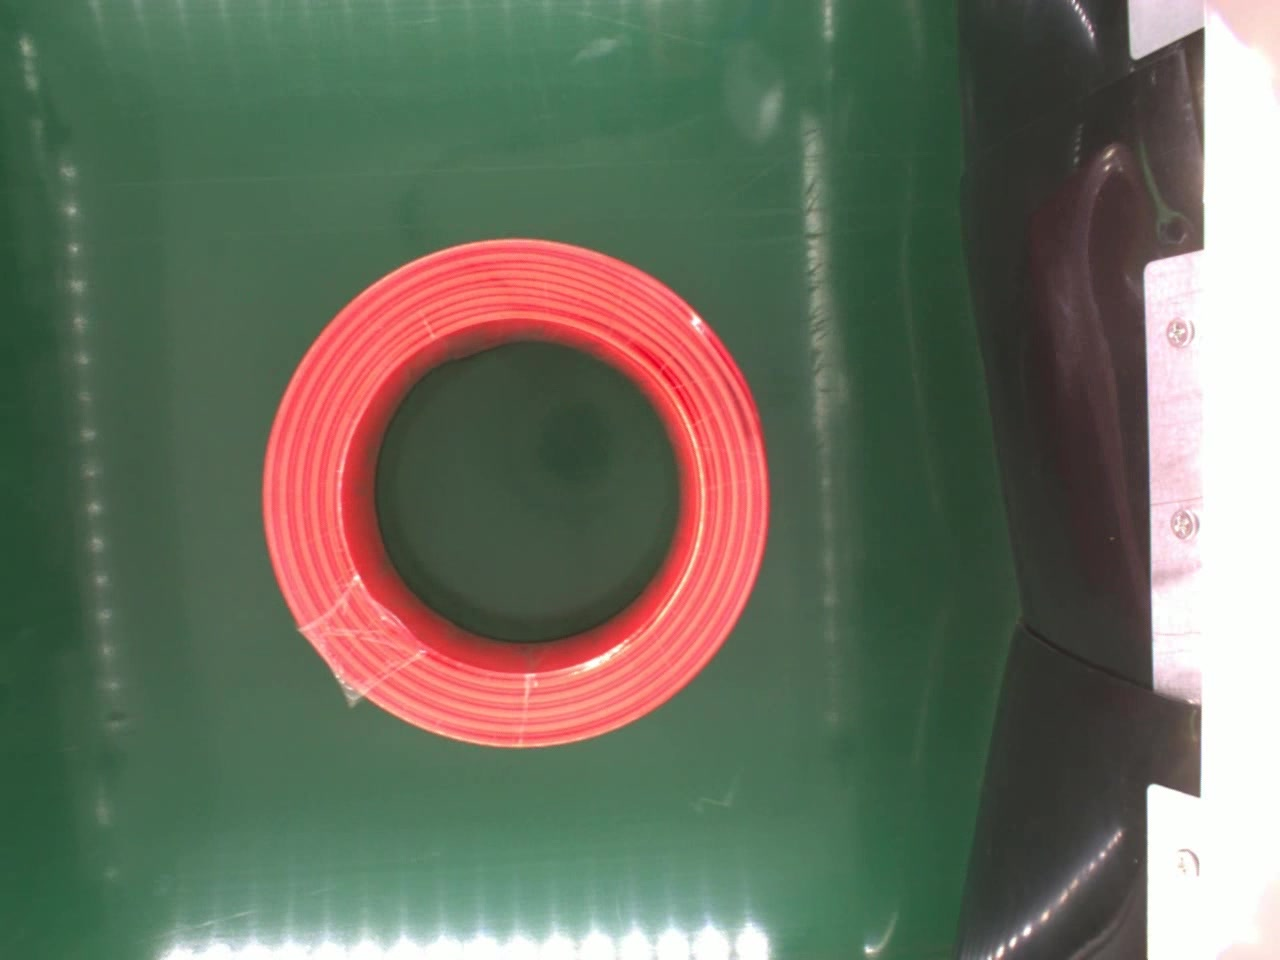red: (260, 233, 770, 751)
